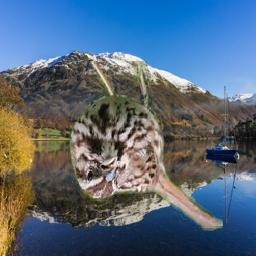Sparrow: (67, 61, 223, 231)
